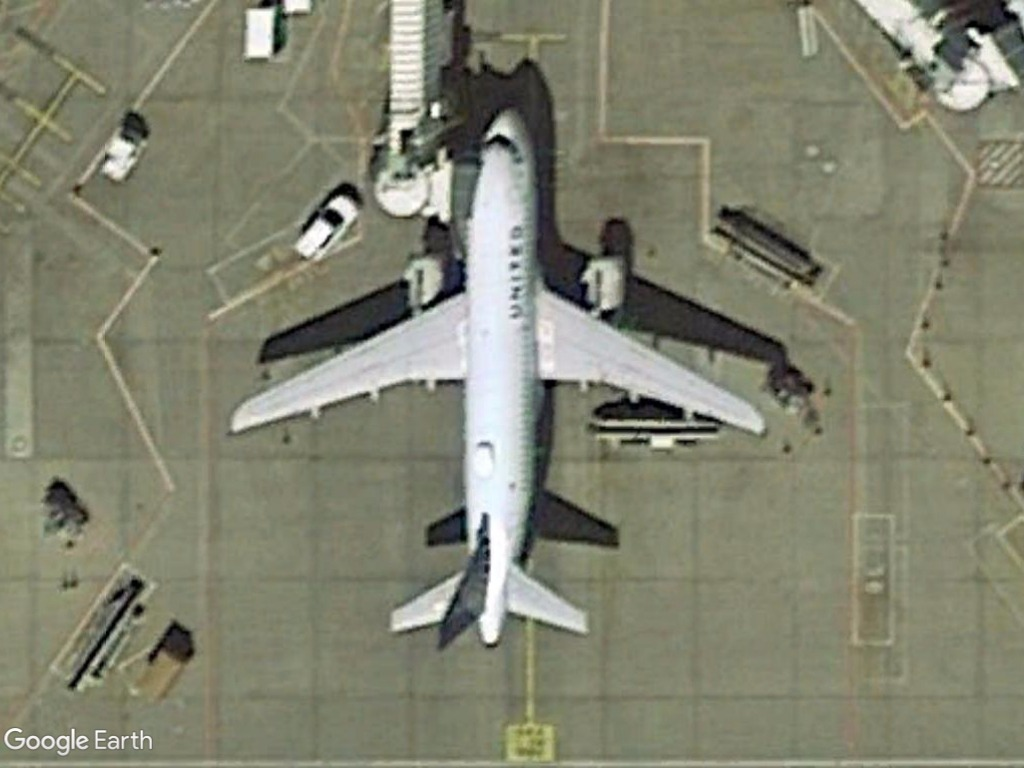airliner: (222, 98, 774, 661)
car: (289, 188, 362, 269)
